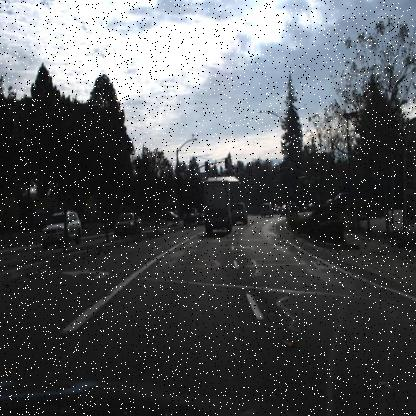car: (201, 178, 234, 235), (40, 210, 82, 250), (111, 210, 144, 242), (230, 201, 249, 225), (183, 204, 200, 226), (257, 200, 273, 219), (278, 200, 291, 218)
truck: (203, 183, 231, 238)
